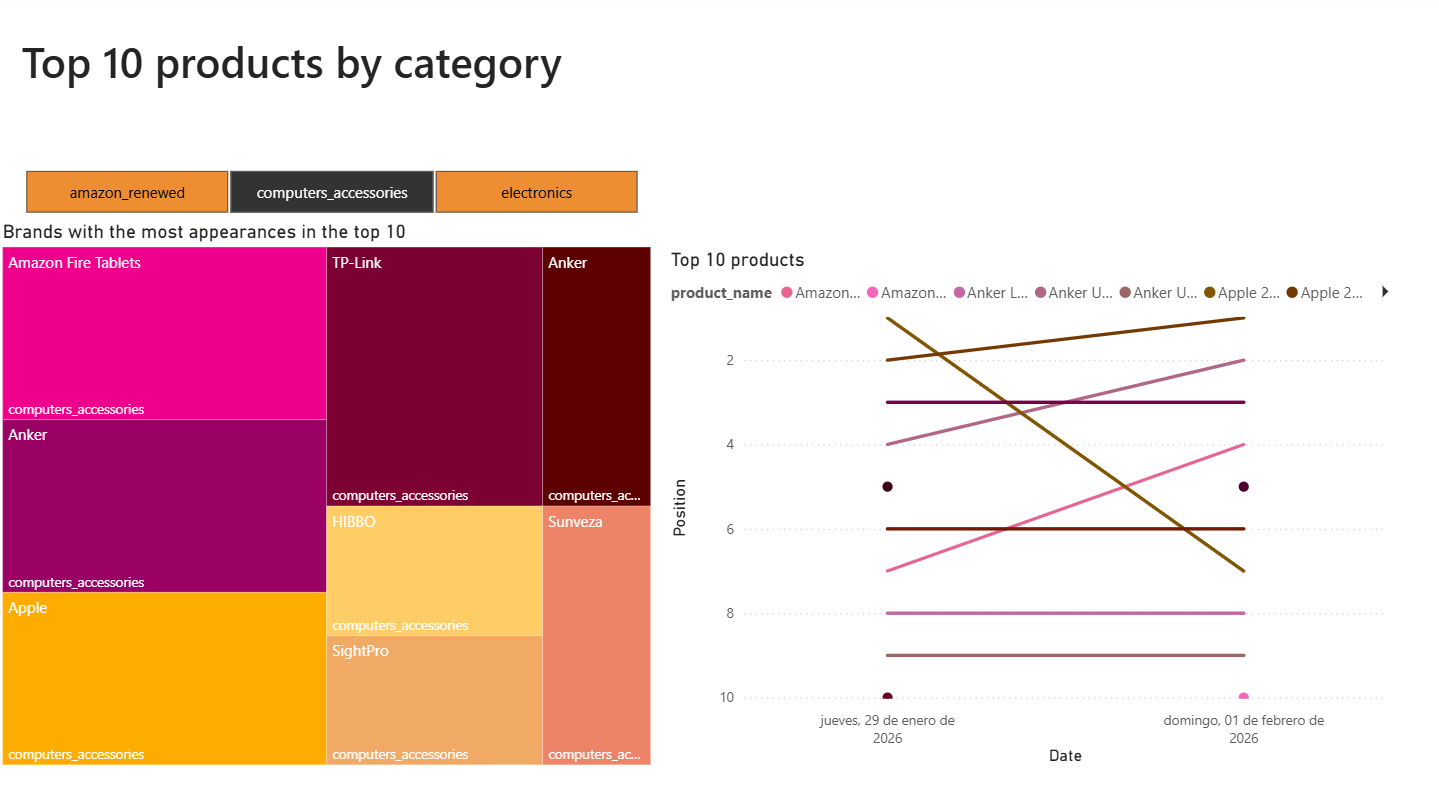

The page's visual inventory and layout, read from the dashboard file:
{"tool":"powerbi","page":{"name":"Top Products","canvas":[1280,720],"ordinal":1},"visuals":[{"type":"lineChart","title":"Top 10 products ","fields":{"Category":["analytics product_rank_timeseries.date"],"Series":["core products.product_name"],"Y":["Sum(analytics product_rank_timeseries.rank_position)"]},"box":[592.3,223.7,657.5,463],"z":0},{"type":"treemap","title":"Brands with the most appearances in the top 10","fields":{"Values":["CountNonNull(analytics times_in_top.times_top_10)"],"Group":["analytics times_in_top.brand"],"Details":["analytics times_in_top.category"]},"box":[0,198.4,584.6,488.3],"z":2000},{"type":"slicer","fields":{"Values":["core products.category"]},"box":[0,147.8,592.3,50.6],"z":2001},{"type":"textbox","box":[17.3,27.3,1191.8,90.9],"z":2002}]}

Visuals, with their boxes in screenshot pixels (x1, y1, x2, y2), scaled from the page's 1280x720 canvas onto the 1439x803 screenshot:
"Top 10 products " lineChart: bbox(666, 249, 1405, 766)
"Brands with the most appearances in the top 10" treemap: bbox(0, 221, 657, 766)
slicer - core products.category: bbox(0, 165, 666, 221)
textbox: bbox(19, 30, 1359, 132)
